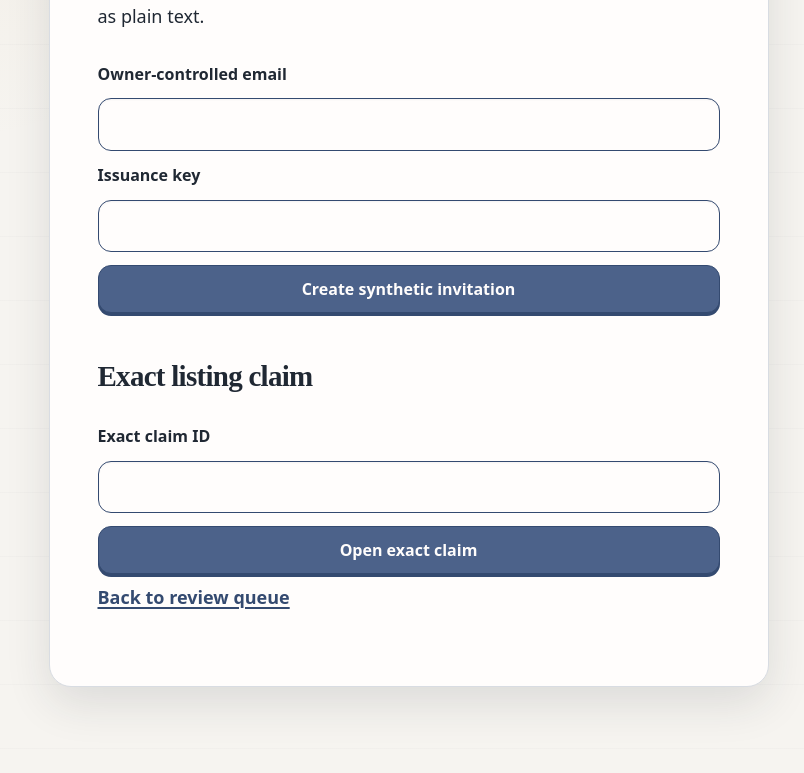
Test: Partner Administrator screen › hides generic approve and transfer when the claim intent is unclassified
(page scrolled)
Step 1. Type "11111111-1111-4111-8111-111111111111" into the field labelled "Exact claim ID" → (408, 487), box [98, 461, 720, 513]
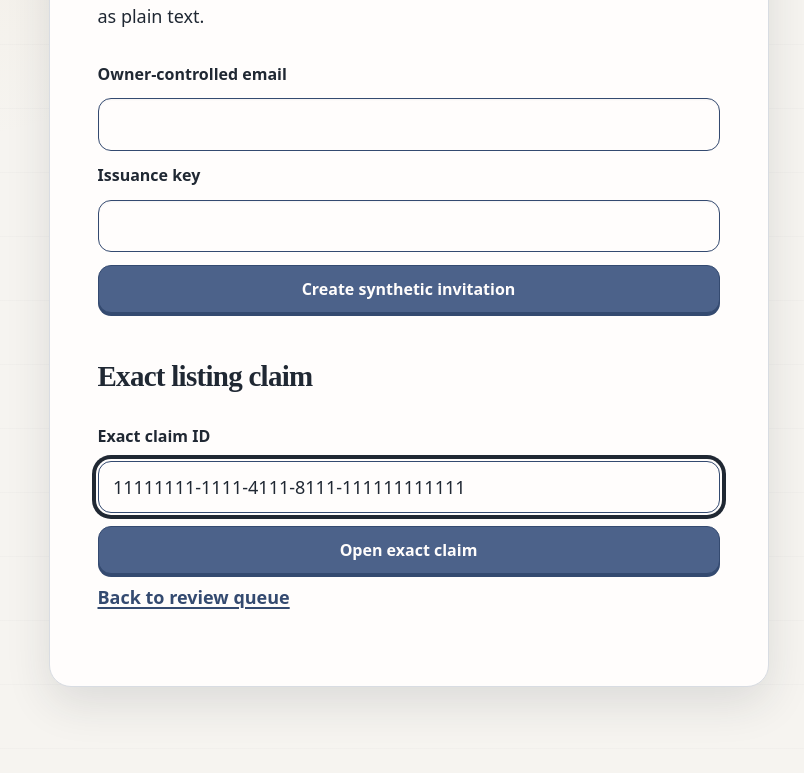
Step 2. Click the button "Open exact claim" → click(408, 550), box [98, 526, 720, 574]
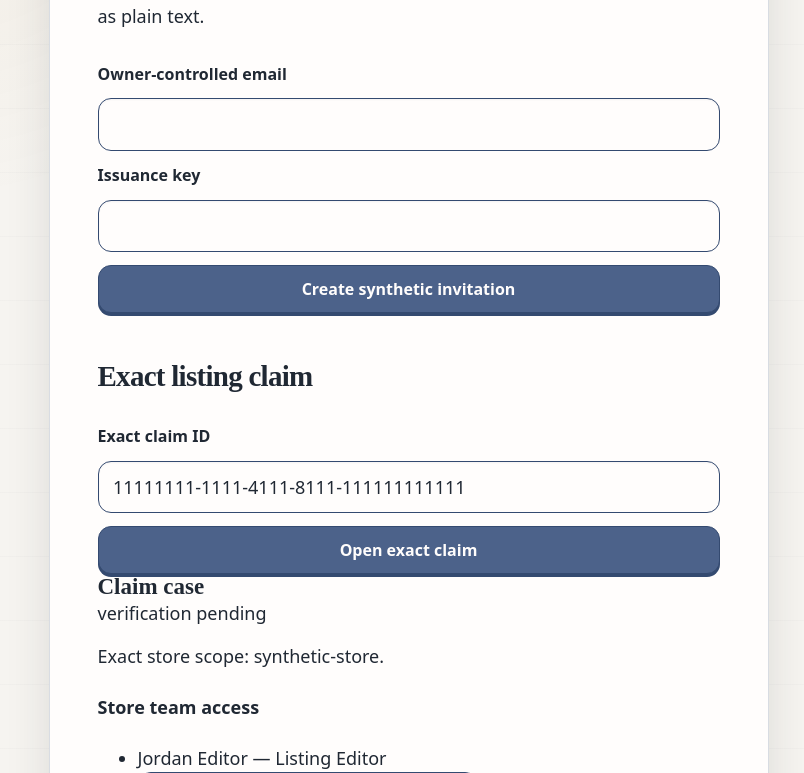
expect the text "verification pending" is shown: met, box [98, 601, 266, 625]
